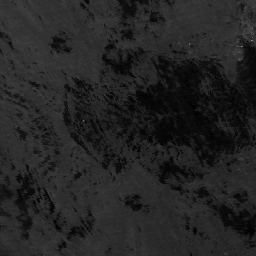Target: (80, 118, 86, 123)
